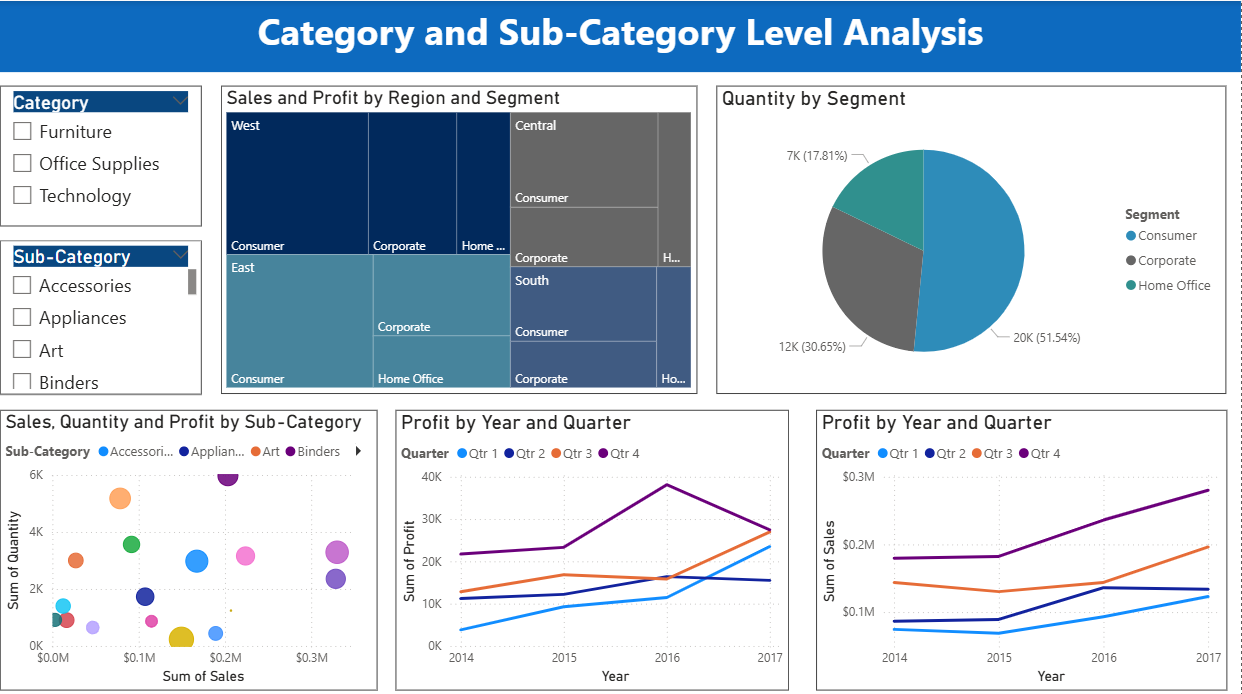

The dashboard page shown, as its layout file describes it:
{"tool":"powerbi","page":{"name":"Category and Sub-Category","canvas":[1280,720],"ordinal":2},"visuals":[{"type":"textbox","box":[10.1,0,1269.9,72.8],"z":0},{"type":"slicer","fields":{"Values":["Orders.Category"]},"box":[10.1,87,206.3,143.6],"z":1000},{"type":"slicer","fields":{"Values":["Orders.Sub-Category"]},"box":[10.1,244.7,206.3,157.7],"z":2000},{"type":"treemap","title":"Sales and Profit by Region and Segment","fields":{"Group":["Orders.Region"],"Values":["Sum(Orders.Sales)"],"Details":["Orders.Segment"]},"box":[236.6,87,487.3,315.5],"z":3000},{"type":"pieChart","title":"Quantity by Segment","fields":{"Category":["Orders.Segment"],"Y":["Sum(Orders.Quantity)"]},"box":[744.1,87,521.7,315.5],"z":4000},{"type":"scatterChart","title":"Sales, Quantity and Profit by Sub-Category","fields":{"Series":["Orders.Sub-Category"],"X":["Sum(Orders.Sales)"],"Y":["Sum(Orders.Quantity)"],"Size":["Sum(Orders.Profit)"]},"box":[10.1,418.6,386.2,287.1],"z":5000},{"type":"lineChart","title":"Profit by Year and Quarter","fields":{"Category":["Orders.Year"],"Series":["Orders.Quarter"],"Y":["Sum(Orders.Profit)"]},"box":[414.5,418.6,402.4,287.1],"z":6000},{"type":"lineChart","title":"Profit by Year and Quarter","fields":{"Category":["Orders.Year"],"Series":["Orders.Quarter"],"Y":["Sum(Orders.Sales)"]},"box":[845.2,418.6,420.6,287.1],"z":7000}]}

Visuals, with their boxes in screenshot pixels (x1, y1, x2, y2), scaled from the page's 1280x720 canvas onto the 1242x694 screenshot:
textbox: bbox=[10, 0, 1241, 70]
slicer - Orders.Category: bbox=[10, 84, 210, 222]
slicer - Orders.Sub-Category: bbox=[10, 236, 210, 388]
"Sales and Profit by Region and Segment" treemap: bbox=[230, 84, 702, 388]
"Quantity by Segment" pieChart: bbox=[722, 84, 1228, 388]
"Sales, Quantity and Profit by Sub-Category" scatterChart: bbox=[10, 403, 385, 680]
"Profit by Year and Quarter" lineChart: bbox=[402, 403, 793, 680]
"Profit by Year and Quarter" lineChart: bbox=[820, 403, 1228, 680]
